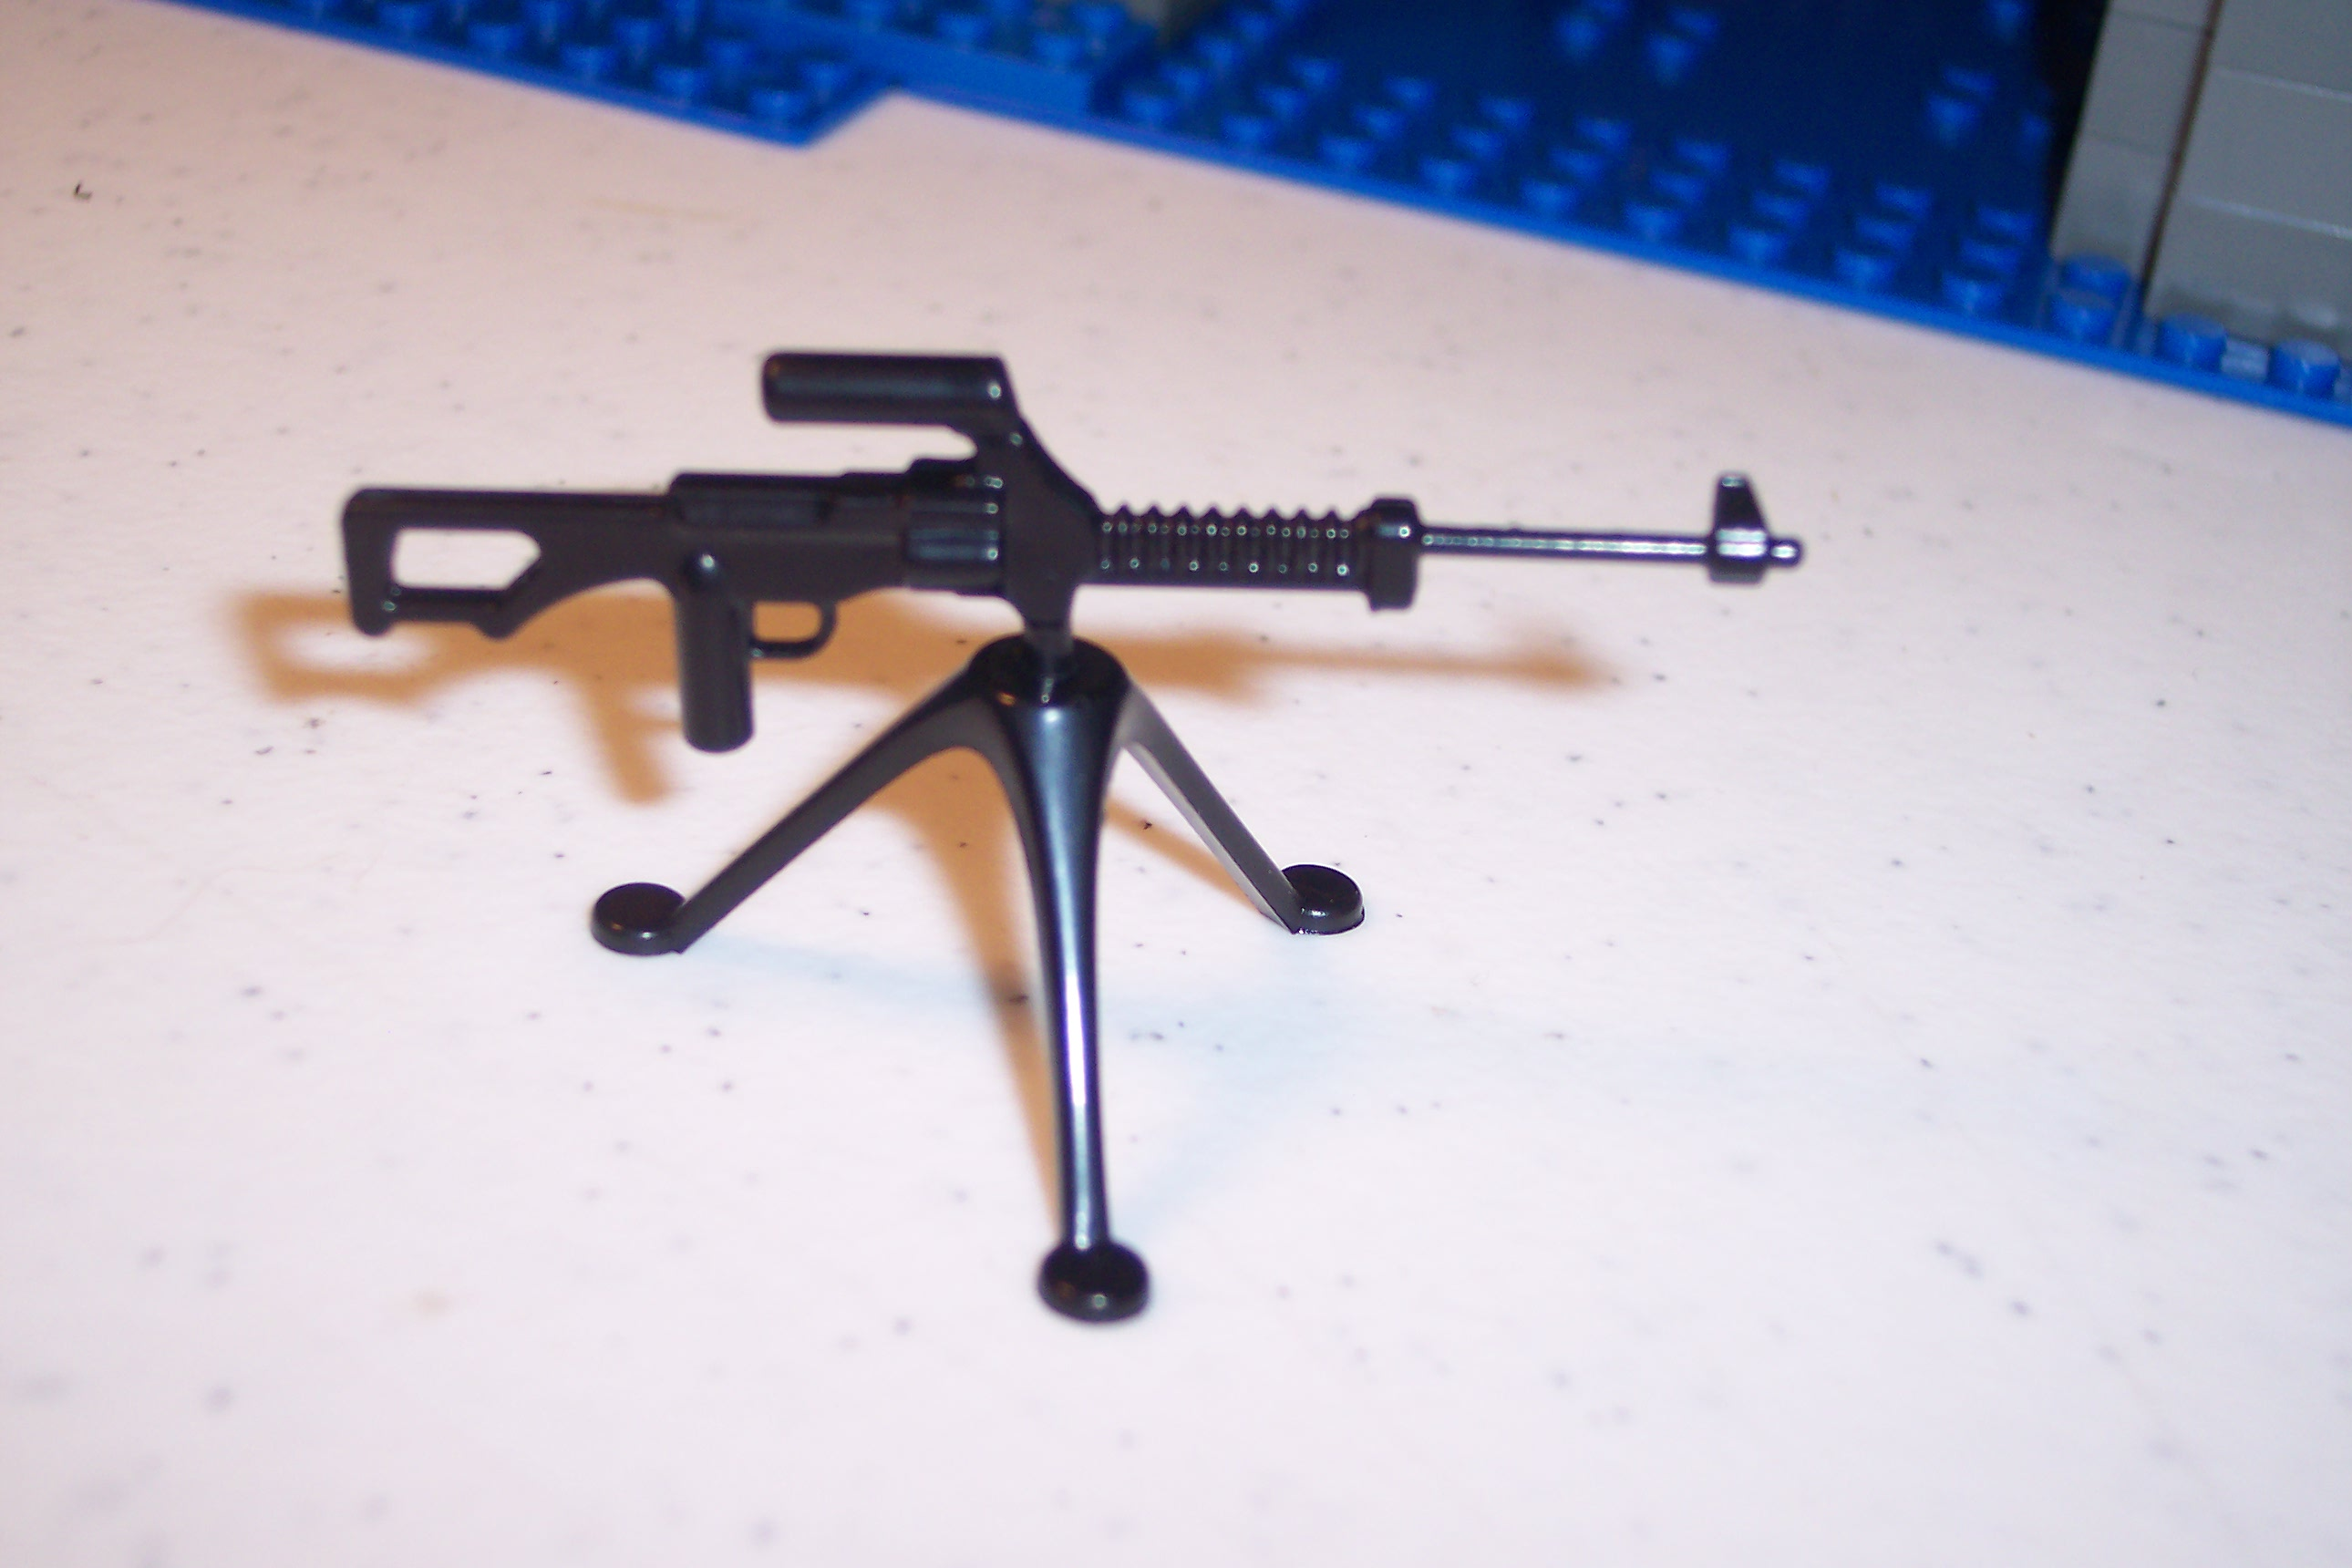rifle: (275, 289, 1890, 810)
